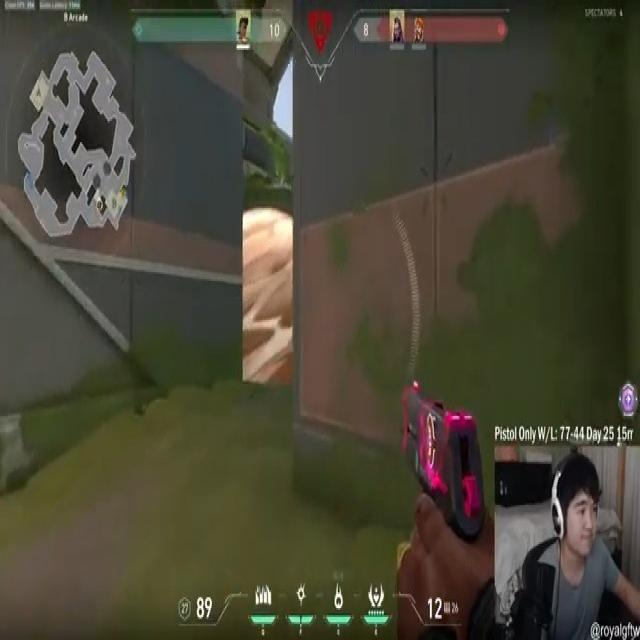smoke: (243, 208, 295, 382)
